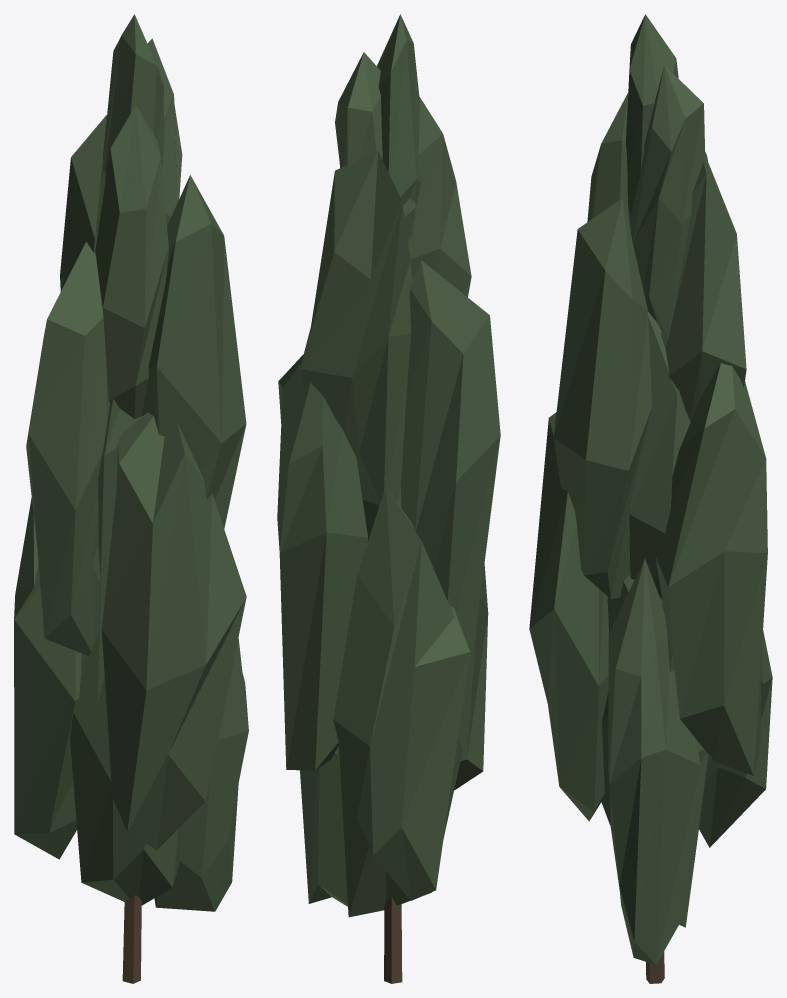
The picture shows the model from 3 angles, left to right: view 1: azimuth 30°, elevation 25°; view 2: azimuth 150°, elevation 25°; view 3: azimuth 270°, elevation 25°; orthographic projection.
Parts seen in each view (by area): view 1: thuja; view 2: thuja; view 3: thuja.
Part boxes in pixels (<box>): thuja: <box>14,14,248,983</box>; thuja: <box>277,14,500,983</box>; thuja: <box>529,14,772,983</box>.
Size of the model in its own units: 4.71 by 20.59 by 4.7.
